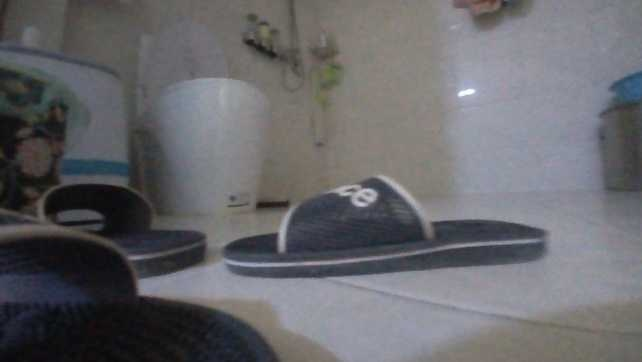slipper: (221, 162, 550, 280), (32, 179, 209, 280)
toilet: (129, 15, 267, 215)
